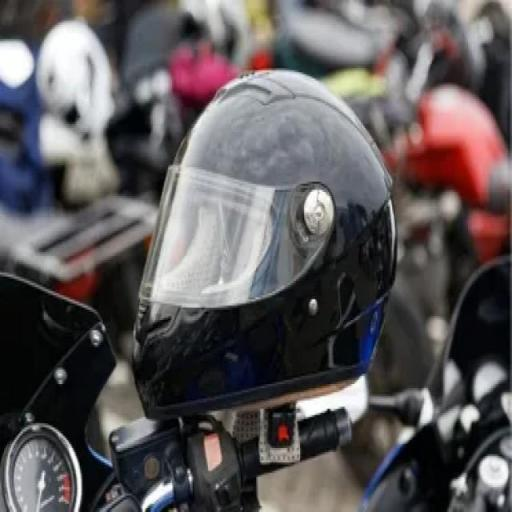Helmet: (134, 71, 395, 417), (37, 20, 113, 135)
Motor: (362, 256, 511, 511)
